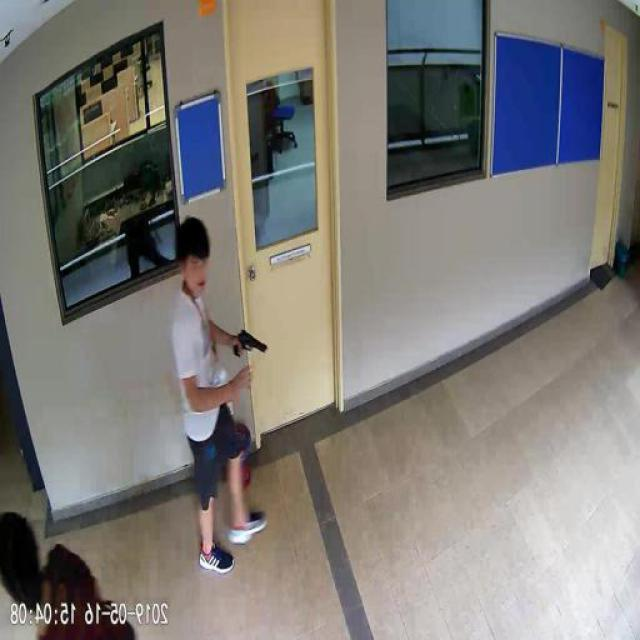weapon: (222, 324, 272, 364)
